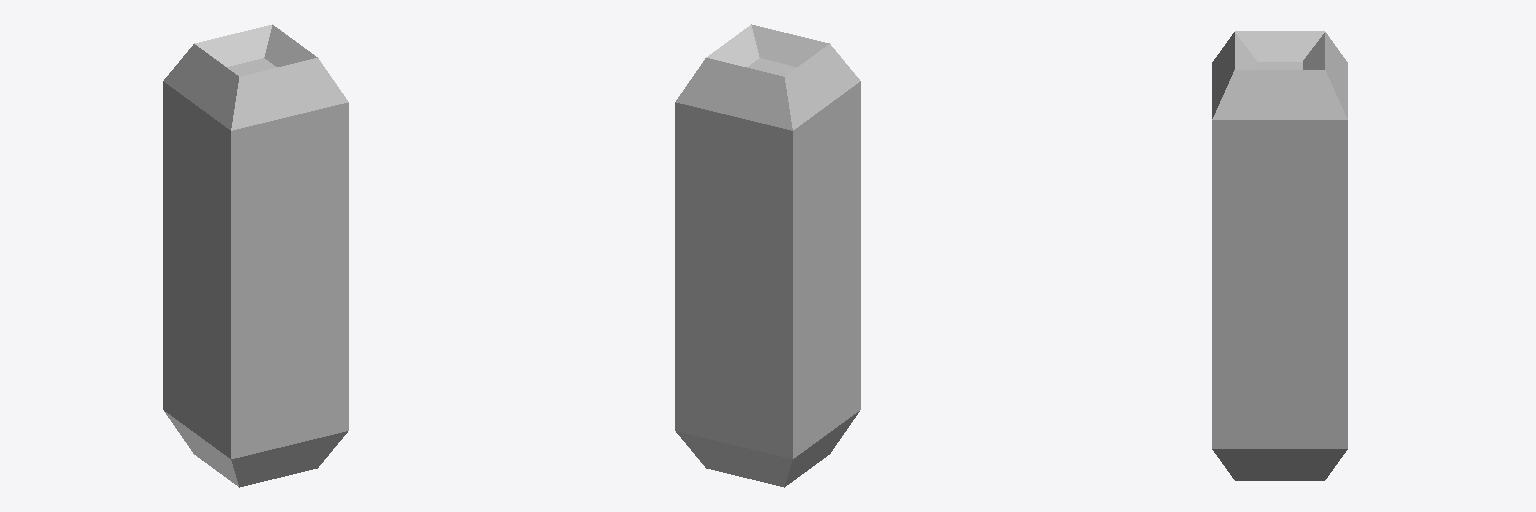
Rendered from Lesser.obj.
The picture shows the model from 3 angles: view 1: azimuth 30°, elevation 25°; view 2: azimuth 150°, elevation 25°; view 3: azimuth 270°, elevation 25°; orthographic projection.
Visible parts, largest first — view 1: Cube_Cube.001; view 2: Cube_Cube.001; view 3: Cube_Cube.001.
Boxes of the visible parts, x1,y1,x2,y2 form: Cube_Cube.001: [163, 24, 348, 487]; Cube_Cube.001: [675, 24, 860, 487]; Cube_Cube.001: [1212, 31, 1347, 480].
Size of the model in its own units: 0.6 by 2 by 0.6.